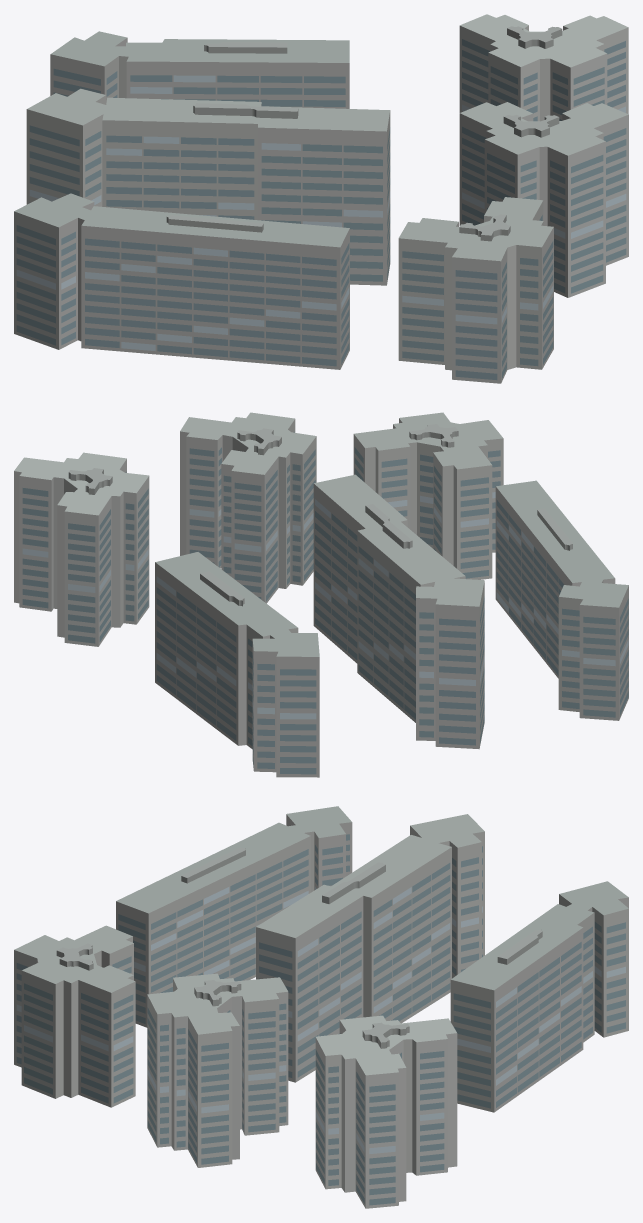
The model's file is apt-a15728002.glb.
The picture shows the model from 3 angles, top to bottom: view 1: azimuth 30°, elevation 25°; view 2: azimuth 150°, elevation 25°; view 3: azimuth 270°, elevation 25°; orthographic projection. The views are drawn at different scales.
Visible parts, largest first — view 1: apt-a15728002; view 2: apt-a15728002; view 3: apt-a15728002.
Boxes of the visible parts, x1=… form: apt-a15728002: x1=14, y1=14, x2=628, y2=383; apt-a15728002: x1=14, y1=412, x2=628, y2=777; apt-a15728002: x1=14, y1=806, x2=628, y2=1208.
Bounding box in the file's own units: 159 × 39 × 144.
